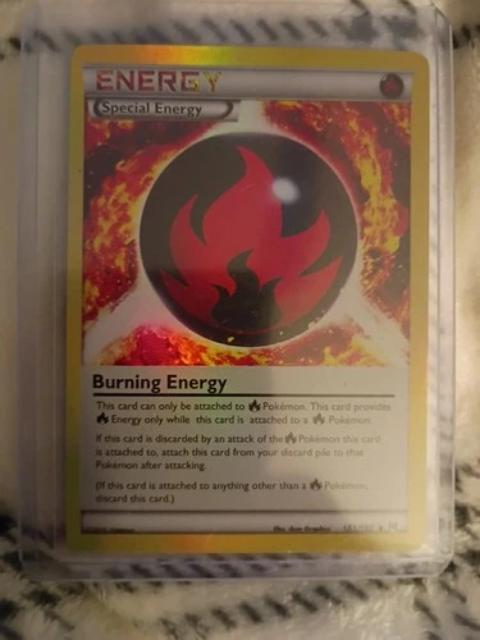Card: (61, 41, 433, 560)
Name: (85, 370, 236, 398)
